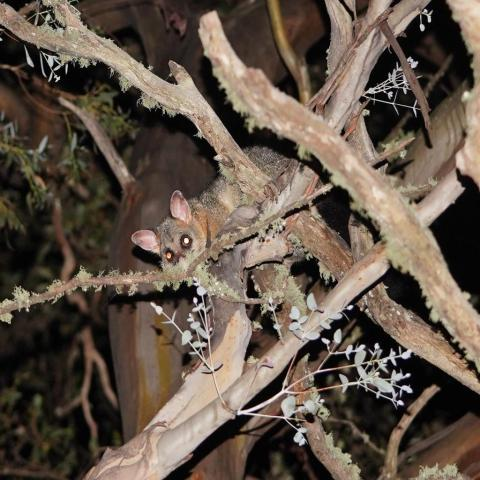small_animal: (131, 136, 322, 286)
